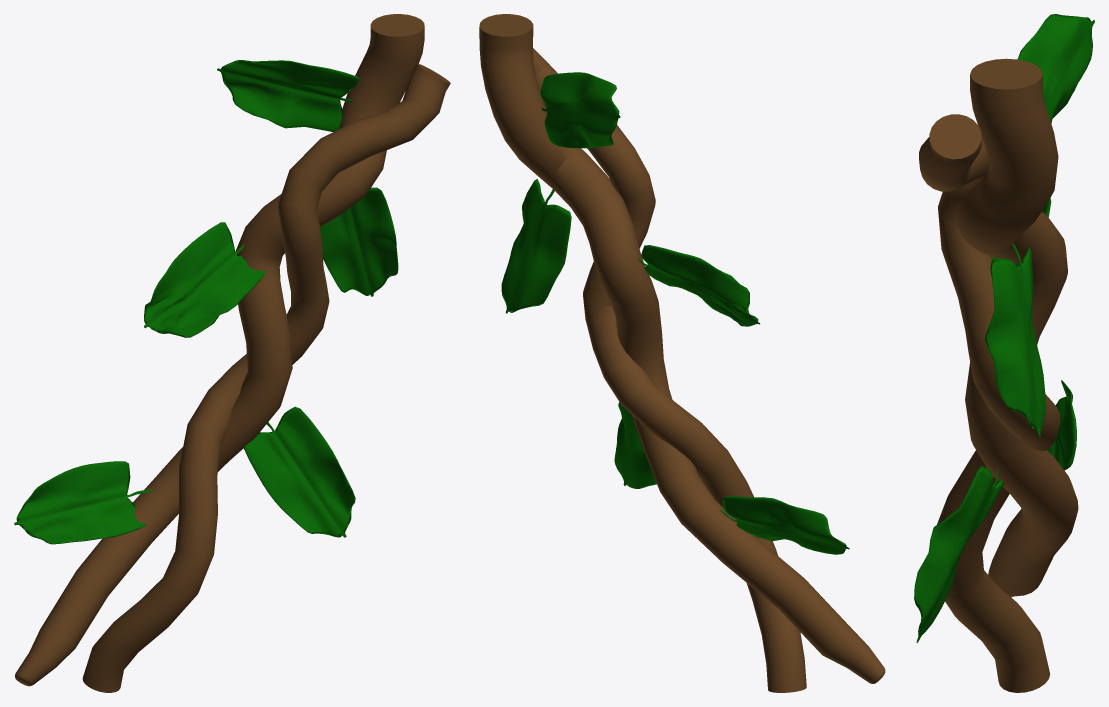
Rendered from Vine3.fbx.
The picture shows the model from 3 angles, left to right: view 1: azimuth 30°, elevation 25°; view 2: azimuth 150°, elevation 25°; view 3: azimuth 270°, elevation 25°; orthographic projection. The views are drawn at different scales.
Parts seen in each view (by area): view 1: pCylinder1, pCylinder2, pCube3, pCube2, pCube1, pCube5, pCube4; view 2: pCylinder1, pCylinder2, pCube4, pCube5, pCube2, pCube1, pCube3; view 3: pCylinder1, pCylinder2, pCube4, pCube3, pCube5, pCube1.
Boxes of the visible parts, left/top/right/bottom form: pCylinder1: left=15, top=14, right=424, bottom=686; pCylinder2: left=82, top=63, right=450, bottom=692; pCube3: left=243, top=406, right=355, bottom=537; pCube2: left=144, top=222, right=265, bottom=337; pCube1: left=14, top=461, right=151, bottom=544; pCube5: left=217, top=60, right=359, bottom=131; pCube4: left=320, top=187, right=398, bottom=296; pCylinder1: left=479, top=14, right=885, bottom=683; pCylinder2: left=533, top=48, right=806, bottom=692; pCube4: left=501, top=179, right=571, bottom=313; pCube5: left=540, top=72, right=620, bottom=148; pCube2: left=638, top=245, right=759, bottom=326; pCube1: left=719, top=496, right=849, bottom=554; pCube3: left=614, top=402, right=656, bottom=488; pCylinder1: left=957, top=58, right=1078, bottom=597; pCylinder2: left=919, top=114, right=1060, bottom=692; pCube4: left=985, top=243, right=1045, bottom=437; pCube3: left=914, top=465, right=1003, bottom=642; pCube5: left=1017, top=14, right=1094, bottom=123; pCube1: left=1047, top=380, right=1076, bottom=470.
Bounding box in the file's own units: 1211 × 1676 × 344.
